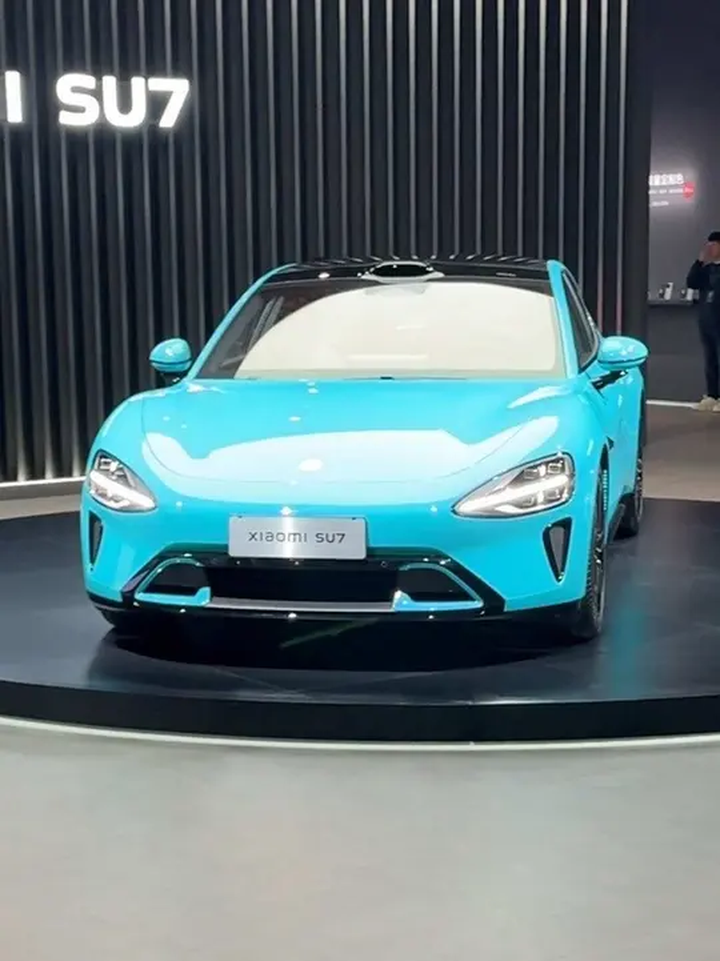su7: (76, 257, 649, 660)
